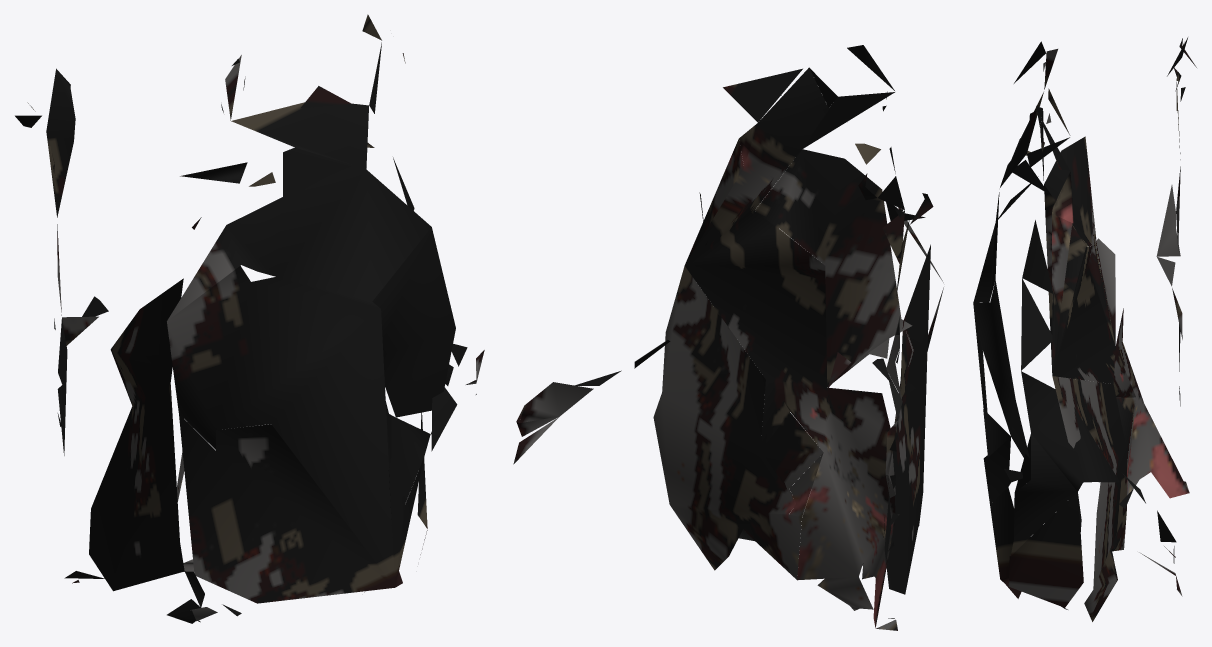
3 views of the same model, side by side, from view 1: azimuth 30°, elevation 25°; view 2: azimuth 150°, elevation 25°; view 3: azimuth 270°, elevation 25° (orthographic). The views are drawn at different scales.
Visible parts, largest first — view 1: body.002; view 2: body.002; view 3: body.002.
Part boxes in pixels (bbox=[...]): body.002: bbox=[15, 14, 484, 623]; body.002: bbox=[513, 45, 943, 630]; body.002: bbox=[973, 37, 1196, 621].
Size of the model in its own units: 1.6 by 1.99 by 0.7595.
1 material, 1 textured.
